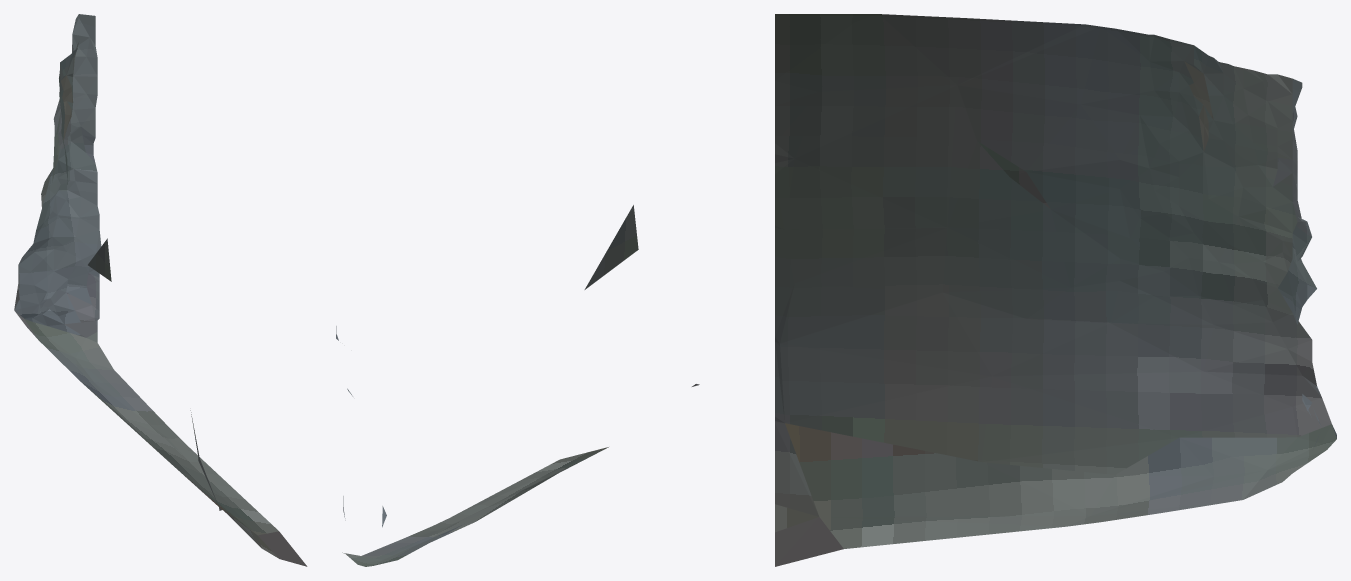
3 views of the same model, side by side, from view 1: azimuth 30°, elevation 25°; view 2: azimuth 150°, elevation 25°; view 3: azimuth 270°, elevation 25° (orthographic). The views are drawn at different scales.
Bounding box in the file's own units: 0.0693 × 0.2058 × 0.2193.
1 material, 1 textured.
